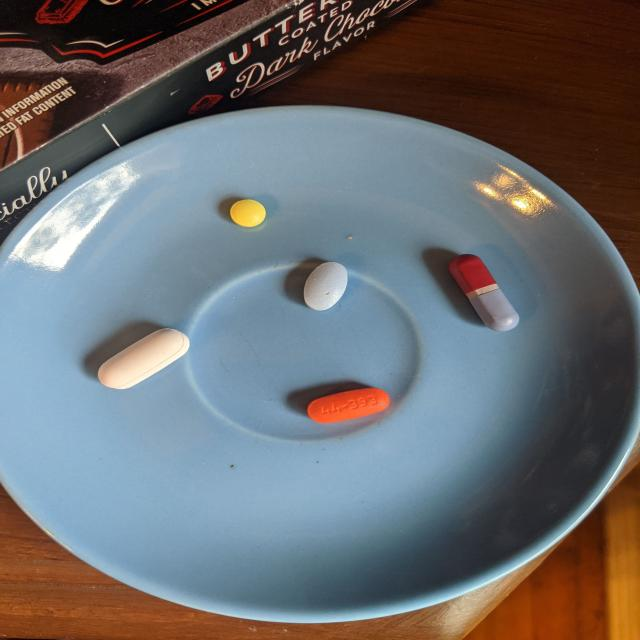non-organic waste: (96, 327, 192, 391), (447, 252, 521, 334), (305, 386, 391, 424), (302, 261, 348, 311), (230, 199, 266, 228)
